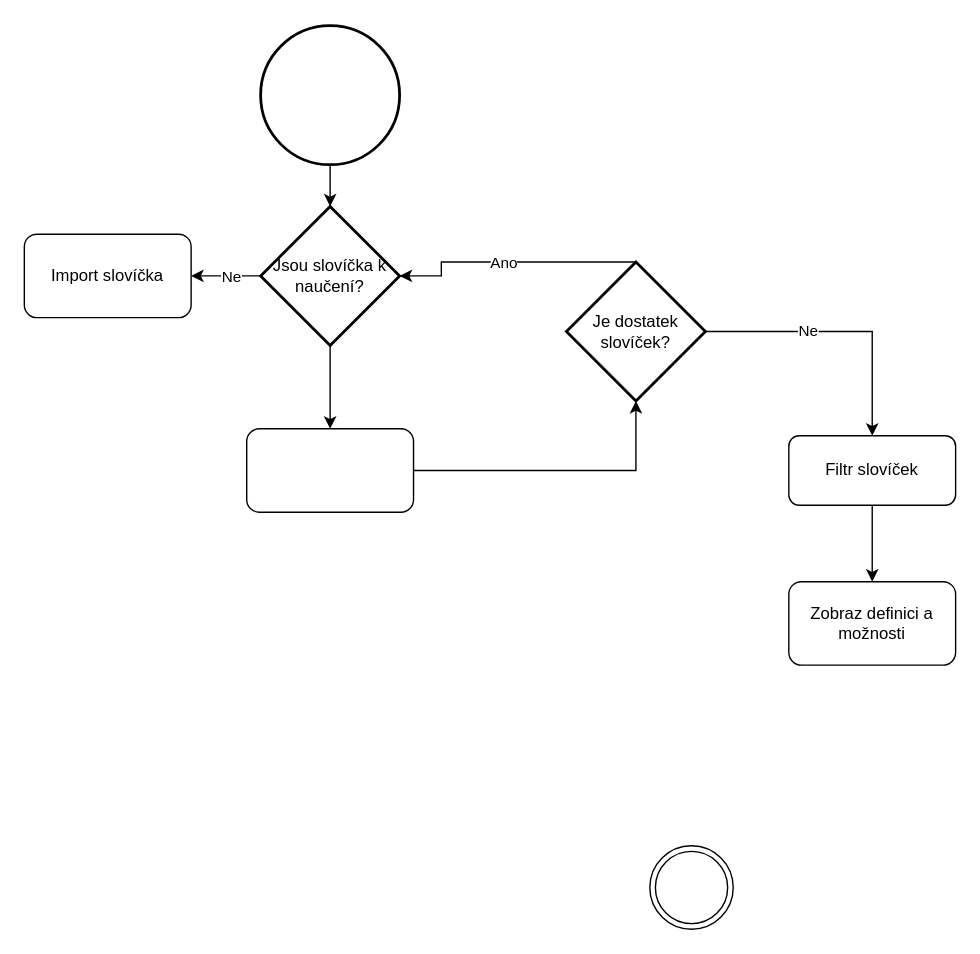
This 980x954 diagram has some shape labels left out. The shapes that lost their labels are listed below. From the top down, each one's box as (x1, y1, x2, y2) in pixels, then its label:
(259, 24, 400, 165): Start
(245, 427, 414, 512): Učení
